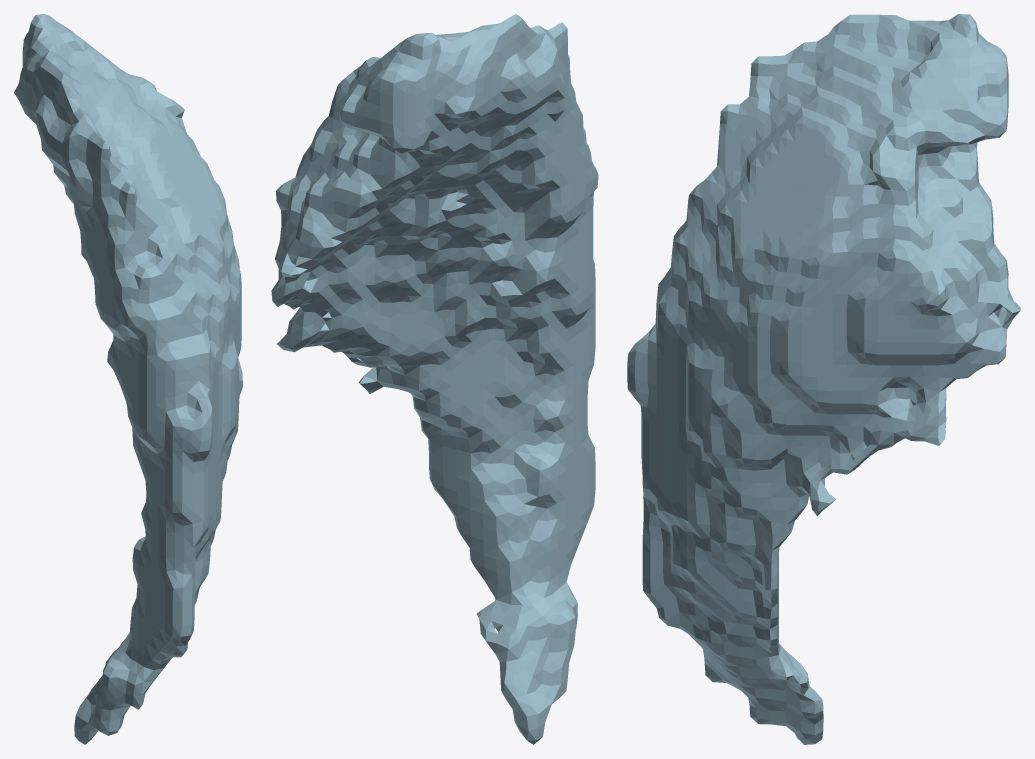
File: aseg_011_Left-Caudate.glb
3 renders of one model, left to right at view 1: azimuth 30°, elevation 25°; view 2: azimuth 150°, elevation 25°; view 3: azimuth 270°, elevation 25°, orthographic. The views are drawn at different scales.
Size of the model in its own units: 15.85 by 53.65 by 25.72.
